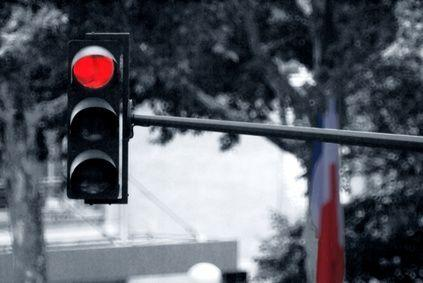red: (65, 29, 157, 209)
